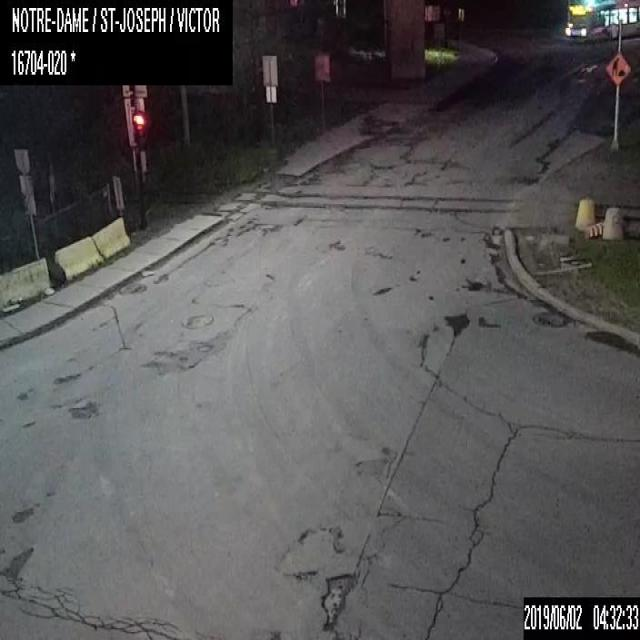bus: (566, 0, 639, 40)
construction: (605, 53, 630, 84), (584, 222, 603, 238)
